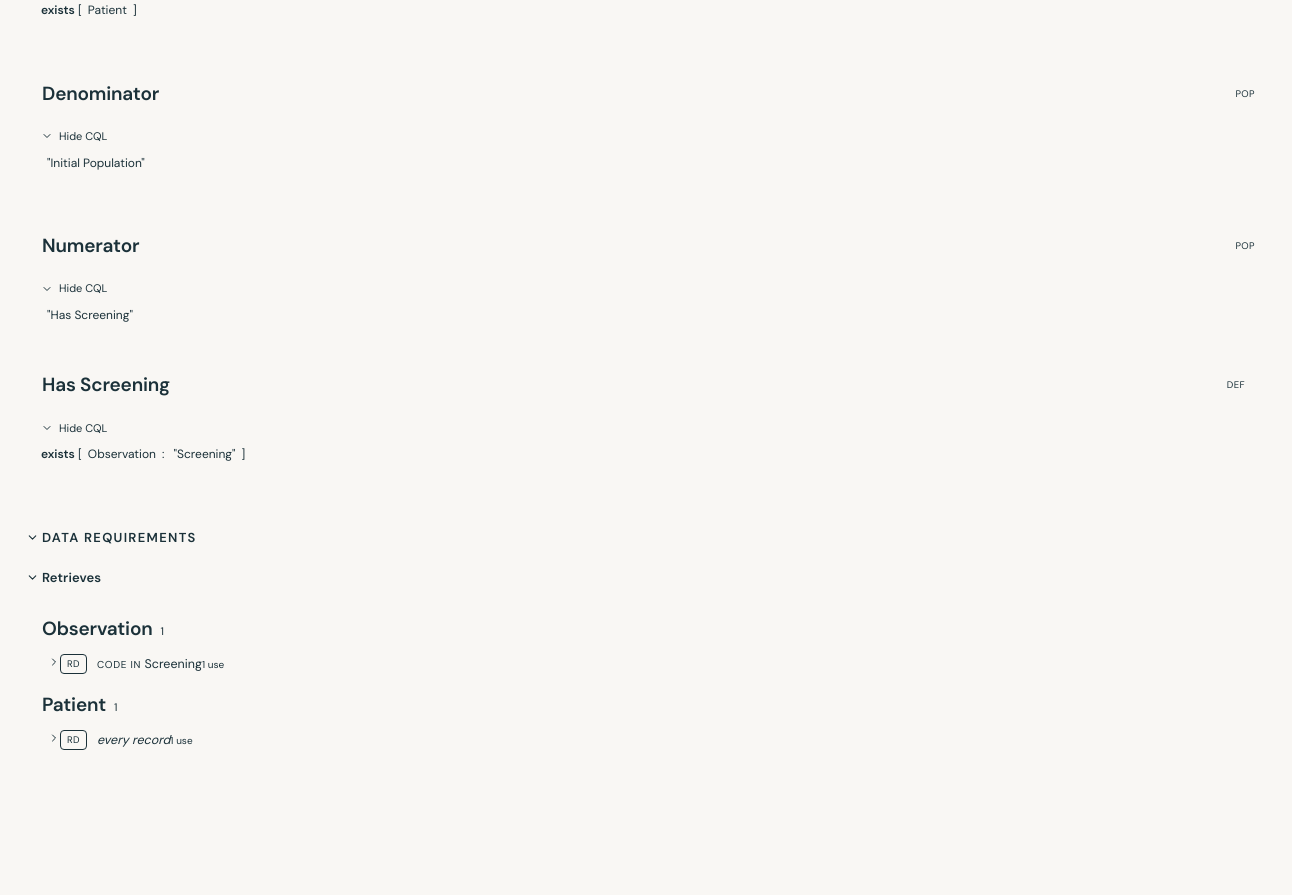
Test case: MeasureNarrative — selecting a read (SPEC-NAV-COMPOSITION) › selects the read when its row is expanded, rather than only opening it
(page scrolled)
Click the button with class "mw-dreq-head" showing "rd code in Screening1 use" at (136, 664), box [42, 652, 230, 675]
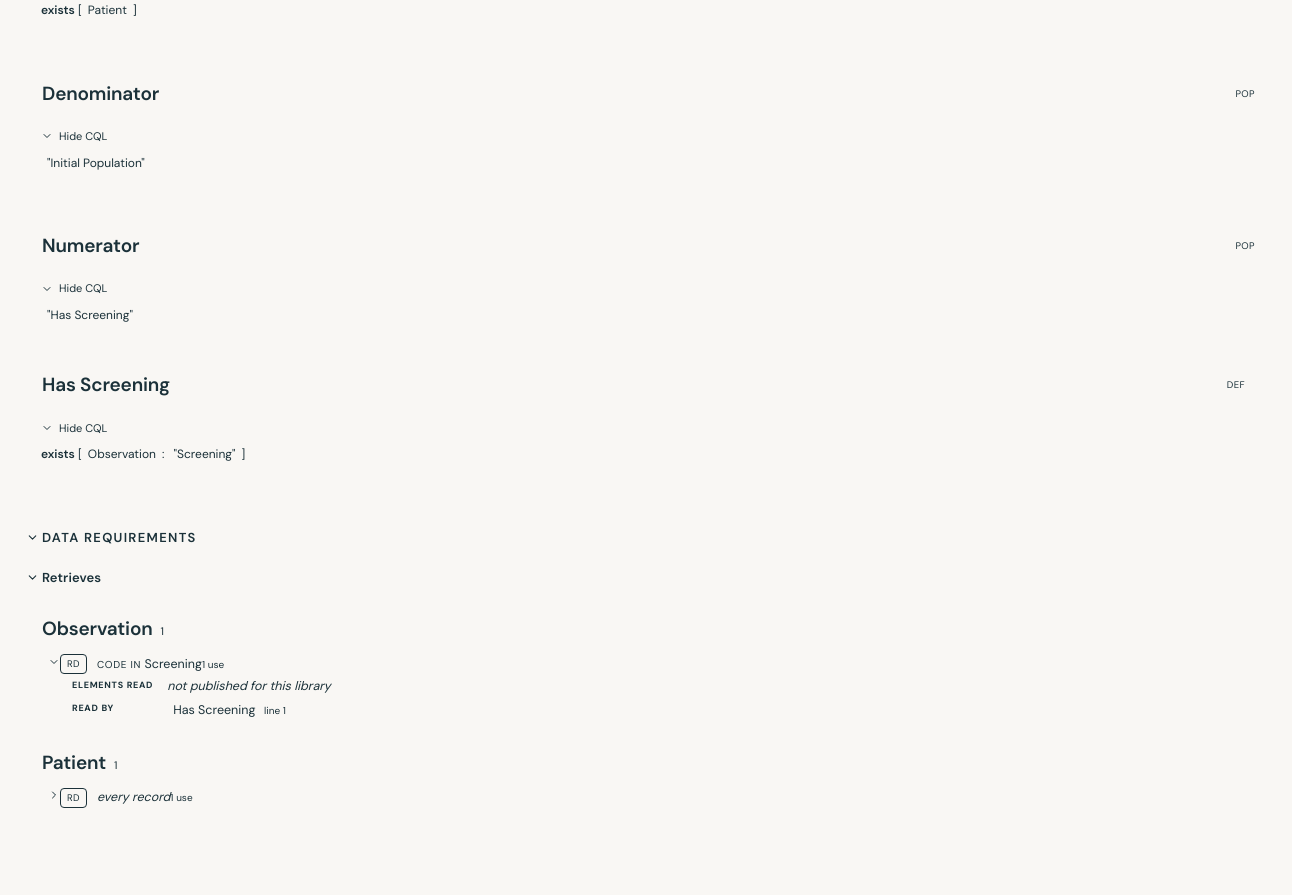
Expected: the button with class "mw-dreq-head" is expanded, [42, 652, 230, 675]
